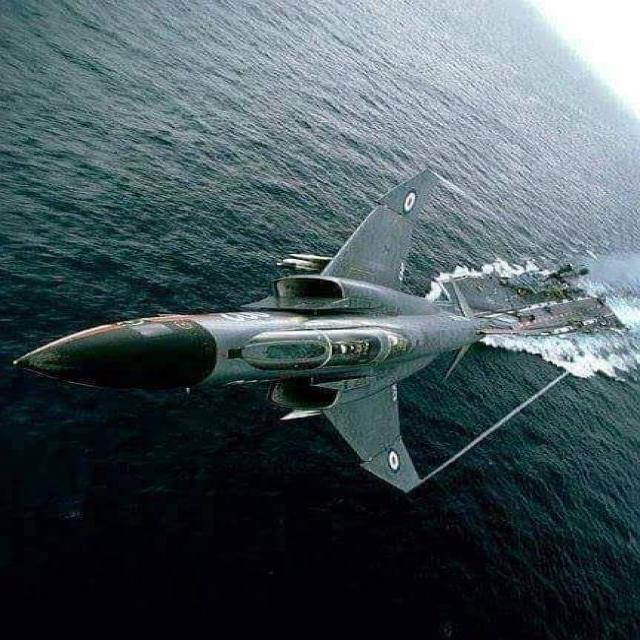MIL_Plane: (12, 167, 552, 494)
